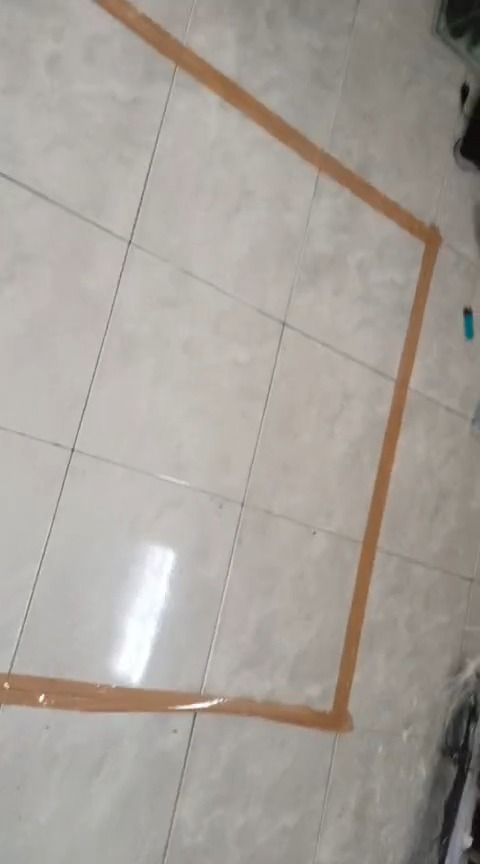floor marking: (0, 0, 440, 733)
